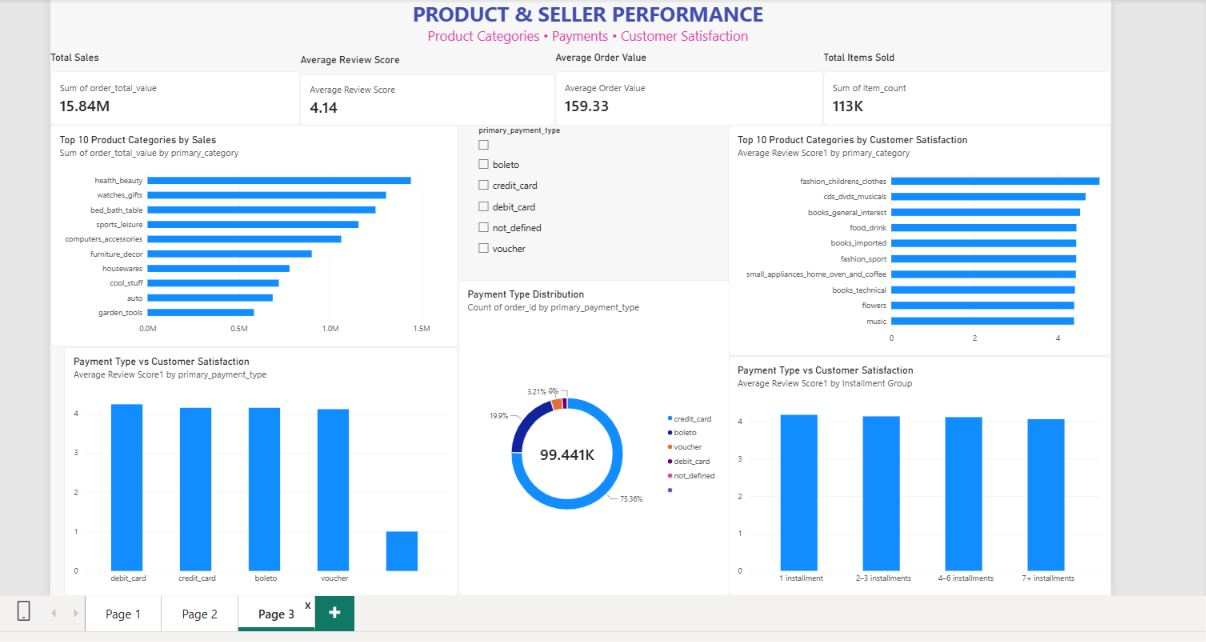

Layout of this report page (visuals, bound fields, positions):
{"tool":"powerbi","page":{"name":"Page 3","canvas":[1920,1080],"ordinal":2},"visuals":[{"type":"clusteredBarChart","title":"Top 10 Product Categories by Sales","fields":{"Category":["olist_powerbi_master.primary_category"],"Y":["Sum(olist_powerbi_master.order_total_value)"]},"box":[0,228.6,737.6,400.6],"z":0},{"type":"clusteredBarChart","title":"Top 10 Product Categories by Customer Satisfaction","fields":{"Category":["olist_powerbi_master.primary_category"],"Y":["olist_powerbi_master.Average Review Score1"]},"box":[1227.7,228.6,692.8,417.1],"z":1},{"type":"clusteredColumnChart","title":"Payment Type vs Customer Satisfaction","fields":{"Category":["olist_powerbi_master.primary_payment_type"],"Y":["olist_powerbi_master.Average Review Score1"]},"box":[25.9,629.2,711.6,450.1],"z":2},{"type":"clusteredColumnChart","title":"Payment Type vs Customer Satisfaction","fields":{"Category":["olist_powerbi_master.Installment Group"],"Y":["olist_powerbi_master.Average Review Score1"]},"box":[1227.7,645.7,692.8,433.6],"z":3},{"type":"textbox","box":[25.9,0,1894.6,94.3],"z":4},{"type":"cardVisual","title":"Total Sales","fields":{"Data":["Sum(olist_powerbi_master.order_total_value)"]},"box":[0,94.3,452.4,134.3],"z":5},{"type":"cardVisual","title":"Average Review Score","fields":{"Data":["olist_powerbi_master.Average Review Score"]},"box":[452.4,99,461.9,129.6],"z":6},{"type":"cardVisual","title":"Average Order Value","fields":{"Data":["olist_powerbi_master.Average Order Value"]},"box":[914.3,94.3,485.4,134.3],"z":7},{"type":"cardVisual","title":"Total Items Sold","fields":{"Data":["Sum(olist_powerbi_master.item_count)"]},"box":[1399.7,94.3,520.8,134.3],"z":8},{"type":"slicer","fields":{"Values":["olist_powerbi_master.primary_payment_type"]},"box":[768.2,228.6,426.5,280.4],"z":9},{"type":"donutChart","title":"Payment Type Distribution","fields":{"Category":["olist_powerbi_master.primary_payment_type"],"Y":["CountNonNull(olist_powerbi_master.order_id)"]},"box":[737.6,509,490.1,570.3],"z":10}]}

Visuals, with their boxes on the page's 1920x1080 design canvas (x1, y1, x2, y2). These are canvas units, not pixel positions in the 1206x642 screenshot, which may show the page scaled, cropped or inside an application window:
"Top 10 Product Categories by Sales" clusteredBarChart: (0, 229, 738, 629)
"Top 10 Product Categories by Customer Satisfaction" clusteredBarChart: (1228, 229, 1920, 646)
"Payment Type vs Customer Satisfaction" clusteredColumnChart: (26, 629, 738, 1079)
"Payment Type vs Customer Satisfaction" clusteredColumnChart: (1228, 646, 1920, 1079)
textbox: (26, 0, 1920, 94)
"Total Sales" cardVisual: (0, 94, 452, 229)
"Average Review Score" cardVisual: (452, 99, 914, 229)
"Average Order Value" cardVisual: (914, 94, 1400, 229)
"Total Items Sold" cardVisual: (1400, 94, 1920, 229)
slicer - olist_powerbi_master.primary_payment_type: (768, 229, 1195, 509)
"Payment Type Distribution" donutChart: (738, 509, 1228, 1079)
